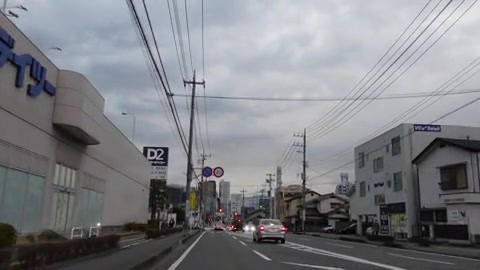traffic_sign: (213, 166, 226, 180), (201, 165, 213, 179)
